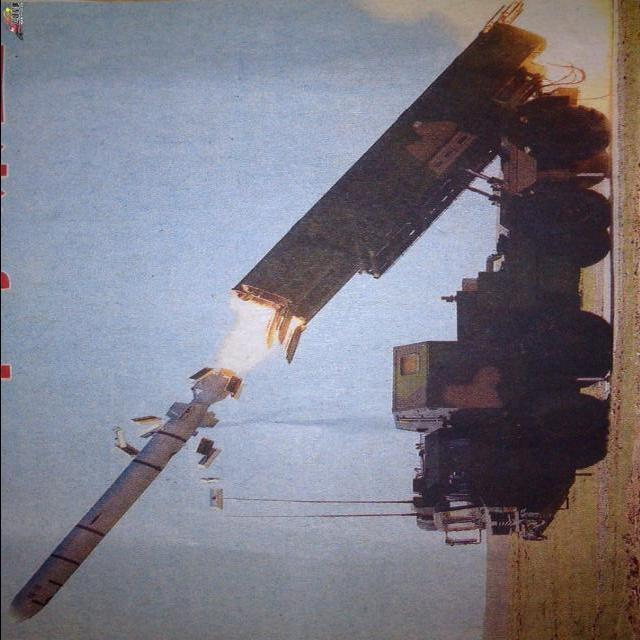missile: (11, 371, 244, 619)
